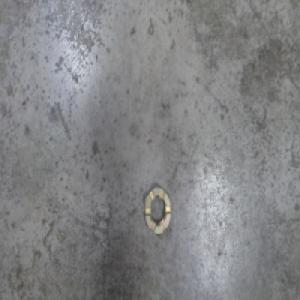Nut: (144, 181, 172, 235)
